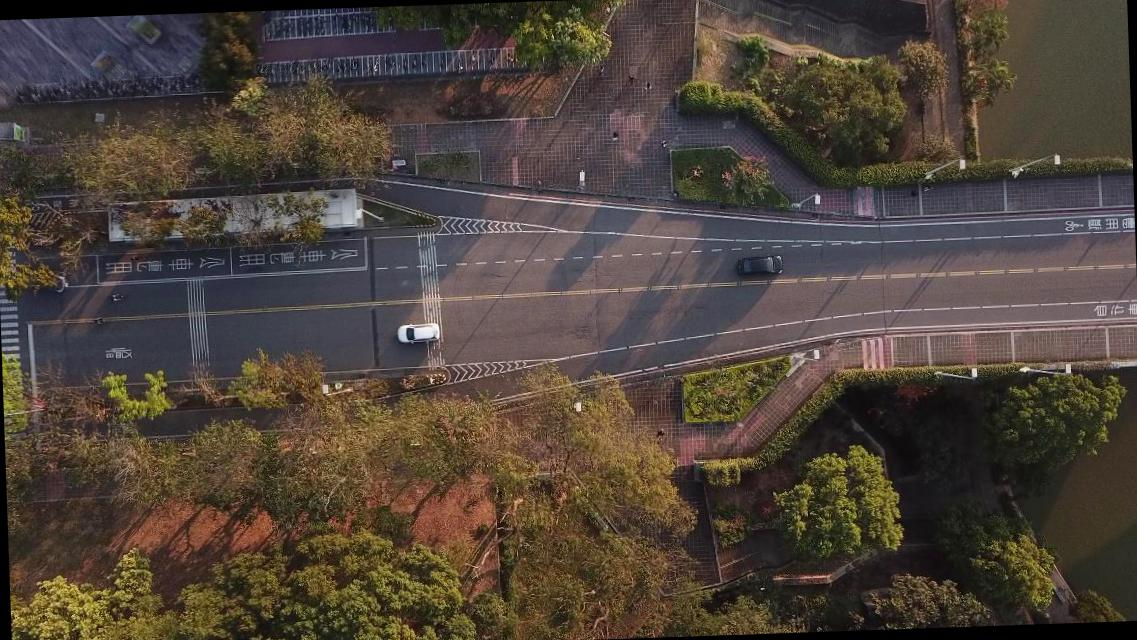vehicle: (2, 266, 67, 298), (733, 255, 782, 278), (395, 322, 440, 344)
